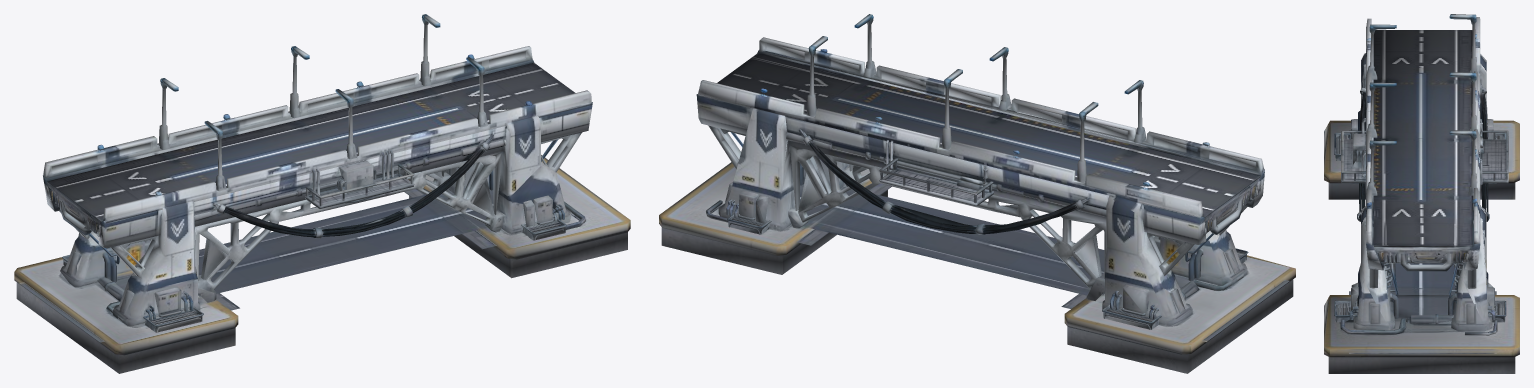
3 renders of one model, left to right at view 1: azimuth 30°, elevation 25°; view 2: azimuth 150°, elevation 25°; view 3: azimuth 270°, elevation 25°, orthographic. The views are drawn at different scales.
Parts seen in each view (by area): view 1: 城市_橋樑; view 2: 城市_橋樑; view 3: 城市_橋樑.
Boxes of the visible parts, bbox=[...] form: 城市_橋樑: bbox=[14, 14, 630, 373]; 城市_橋樑: bbox=[659, 14, 1295, 373]; 城市_橋樑: bbox=[1324, 14, 1519, 373].
Bounding box in the file's own units: 0.9995 × 0.3774 × 0.356.
Materials: 1 (1 with a texture image).
